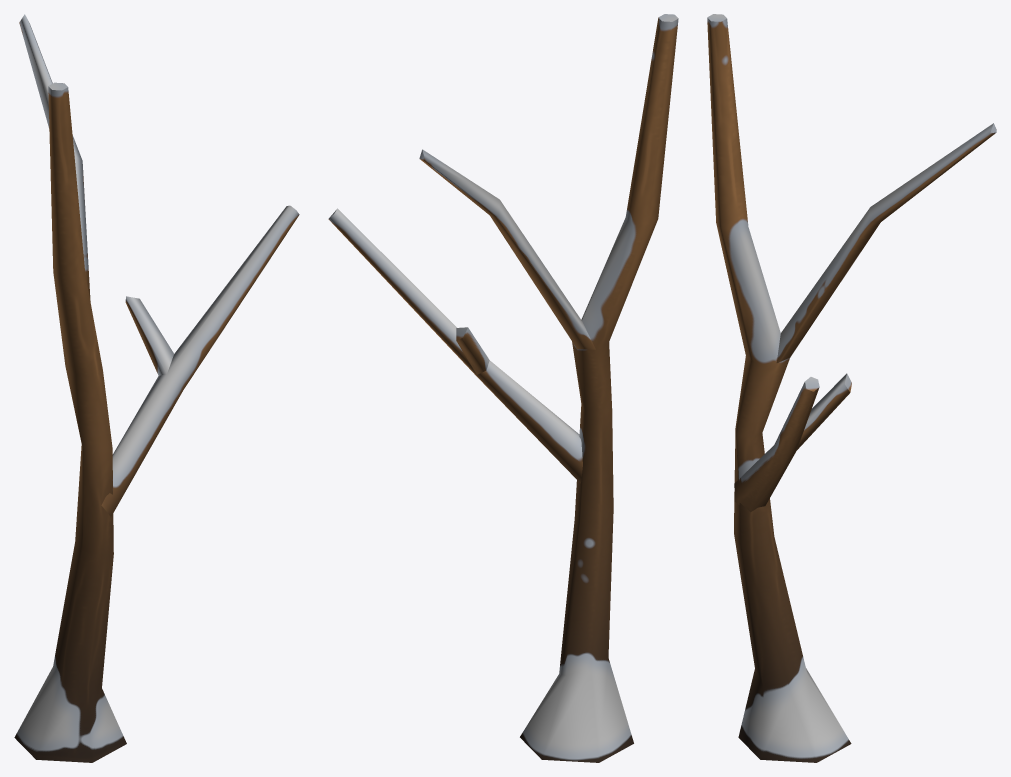
The model's file is Tree_A_2.fbx.
3 renders of one model, left to right at view 1: azimuth 30°, elevation 25°; view 2: azimuth 150°, elevation 25°; view 3: azimuth 270°, elevation 25°, orthographic.
Visible parts, largest first — view 1: Tree_A_2; view 2: Tree_A_2; view 3: Tree_A_2.
Part boxes in pixels (left/top/right/bottom): Tree_A_2: left=14, top=14, right=299, bottom=762; Tree_A_2: left=328, top=14, right=678, bottom=762; Tree_A_2: left=707, top=14, right=996, bottom=762.
Bounding box in the file's own units: 146 × 329 × 124.
Materials: 1 (1 with a texture image).
